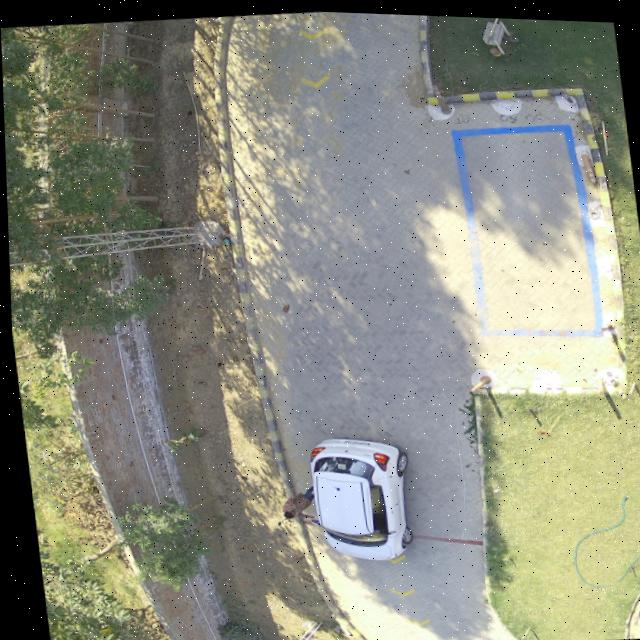car: (305, 435, 407, 555)
